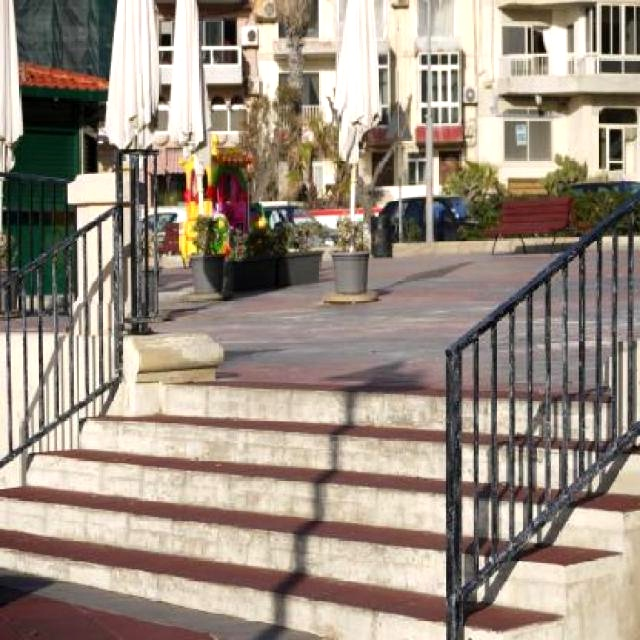stair: (0, 334, 640, 640)
